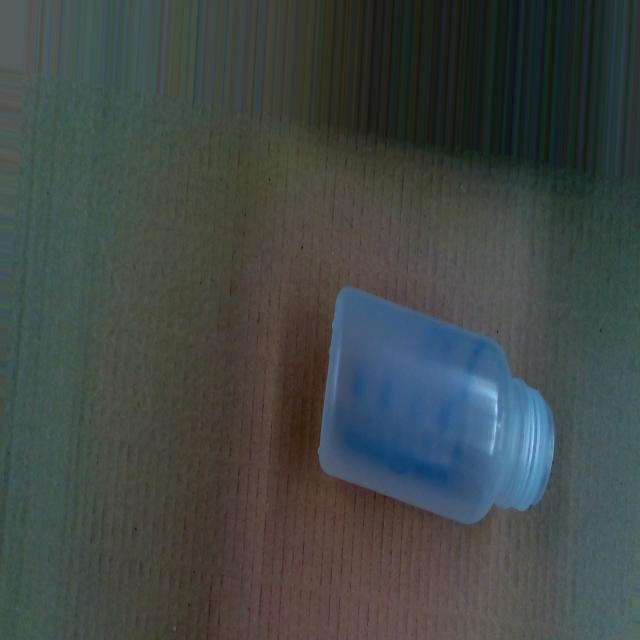bottle: (315, 281, 559, 537)
